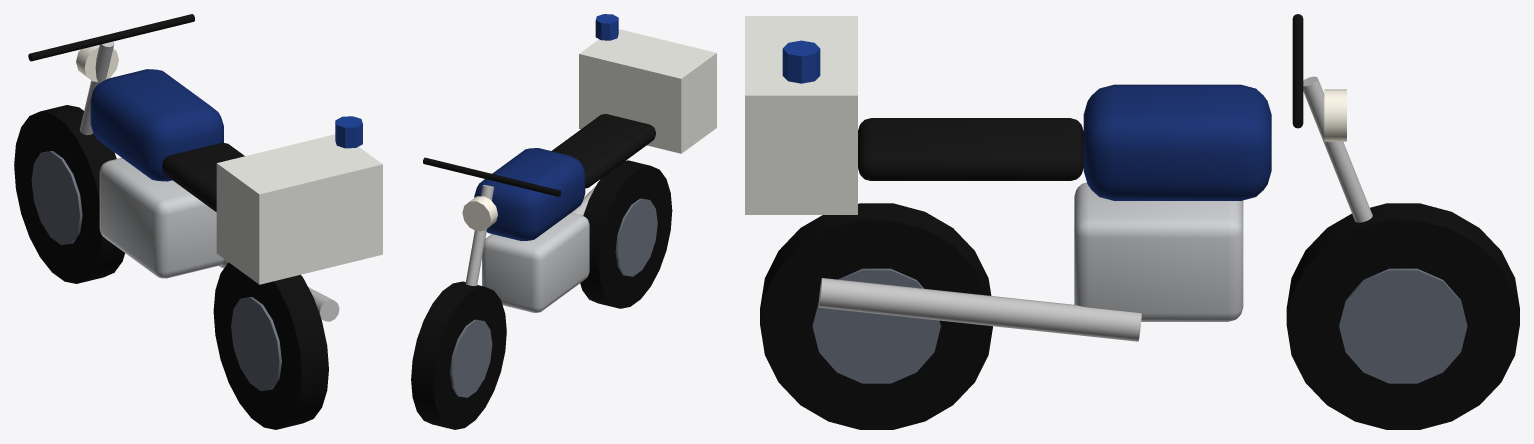
Rendered from police.yard.patrol_bike.glb.
3 renders of one model, left to right at view 1: azimuth 30°, elevation 25°; view 2: azimuth 150°, elevation 25°; view 3: azimuth 270°, elevation 25°, orthographic. The views are drawn at different scales.
Visible parts, largest first — view 1: main__rubber, main__paint_white, main__aluminium, main__car_blue, main__steel_painted, main__leather_black, main__steel_stainless, main__plastic_black, main__plastic_blue, main__light_emitter; view 2: main__rubber, main__paint_white, main__aluminium, main__car_blue, main__steel_painted, main__leather_black, main__steel_stainless, main__plastic_black, main__light_emitter, main__plastic_blue; view 3: main__rubber, main__car_blue, main__paint_white, main__steel_painted, main__aluminium, main__leather_black, main__steel_stainless, main__plastic_blue, main__plastic_black, main__light_emitter.
Part boxes in pixels (x1,y1,x2,y2): main__rubber: (14, 105, 328, 429); main__paint_white: (216, 134, 382, 284); main__aluminium: (99, 157, 224, 278); main__car_blue: (90, 69, 223, 181); main__steel_painted: (31, 151, 281, 390); main__leather_black: (162, 143, 244, 211); main__steel_stainless: (79, 41, 339, 321); main__plastic_black: (28, 14, 194, 61); main__plastic_blue: (335, 116, 362, 148); main__light_emitter: (76, 45, 118, 81); main__rubber: (411, 160, 672, 429); main__paint_white: (579, 29, 716, 153); main__aluminium: (482, 213, 589, 312); main__car_blue: (474, 148, 585, 241); main__steel_painted: (450, 198, 657, 397); main__leather_black: (552, 114, 655, 188); main__steel_stainless: (465, 185, 595, 285); main__plastic_black: (423, 157, 561, 196); main__light_emitter: (462, 196, 497, 231); main__plastic_blue: (595, 14, 618, 40); main__rubber: (760, 203, 1519, 429); main__car_blue: (1083, 84, 1271, 200); main__paint_white: (745, 16, 857, 214); main__steel_painted: (812, 268, 1467, 383); main__aluminium: (1074, 182, 1243, 321); main__leather_black: (858, 118, 1083, 180); main__steel_stainless: (818, 76, 1372, 341); main__plastic_blue: (782, 40, 820, 83); main__plastic_black: (1292, 14, 1303, 128); main__light_emitter: (1324, 89, 1346, 141).
Size of the model in its own units: 0.66 by 1.19 by 2.06.
